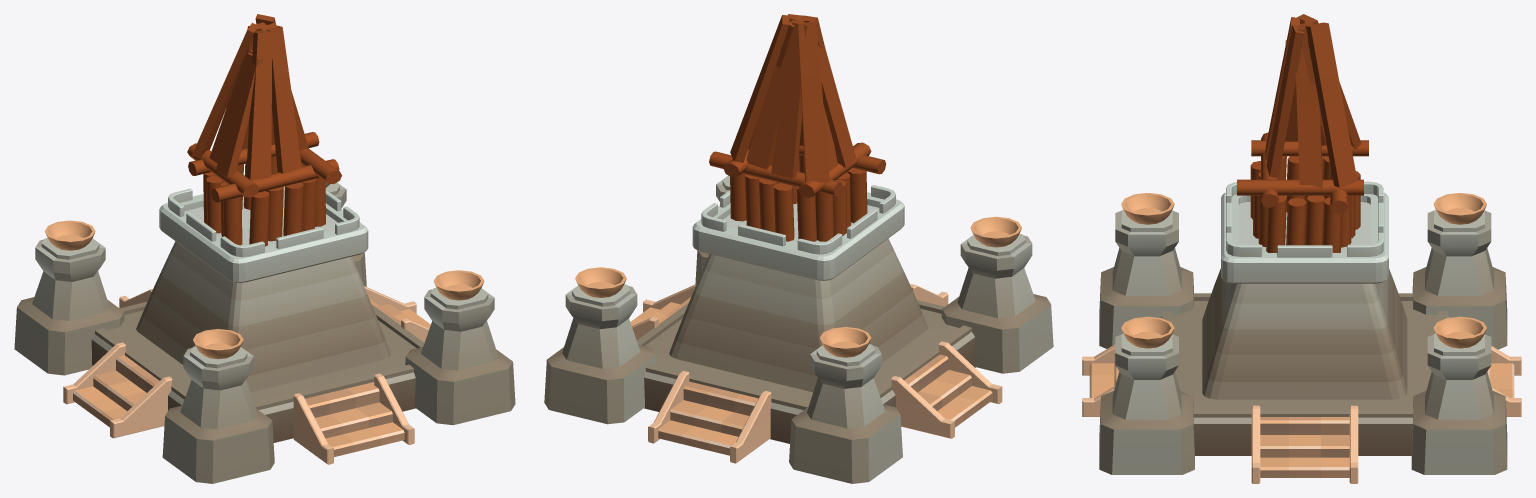
File: FireBon_Lv3.fbx
3 views of the same model, side by side, from view 1: azimuth 30°, elevation 25°; view 2: azimuth 150°, elevation 25°; view 3: azimuth 270°, elevation 25° (orthographic). The views are drawn at different scales.
Parts seen in each view (by area): view 1: FireTower3; view 2: FireTower3; view 3: FireTower3.
Part boxes in pixels (box(x1,y1,x2,y2)): FireTower3: box(14, 14, 515, 483); FireTower3: box(544, 14, 1053, 483); FireTower3: box(1082, 14, 1521, 483).
Size of the model in its own units: 3.1 by 3 by 3.2.
Materials: 1 (1 with a texture image).
